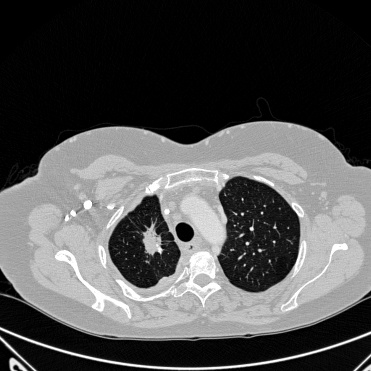PN: (143, 233, 163, 253)
